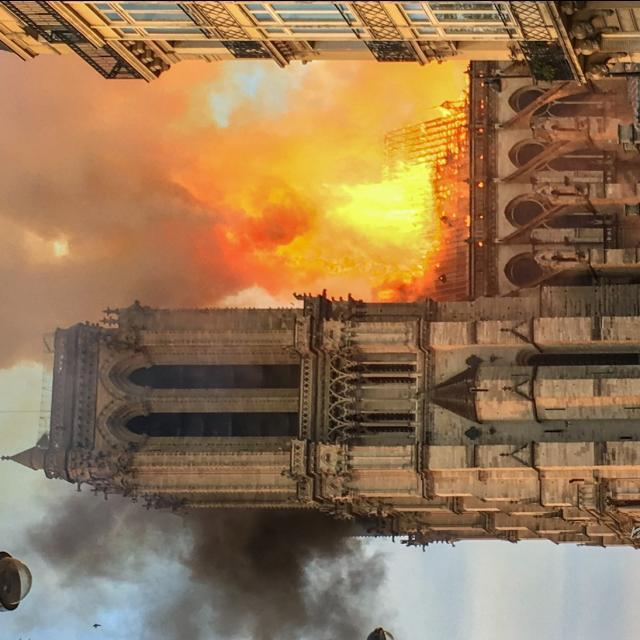Fire: (207, 72, 479, 304)
